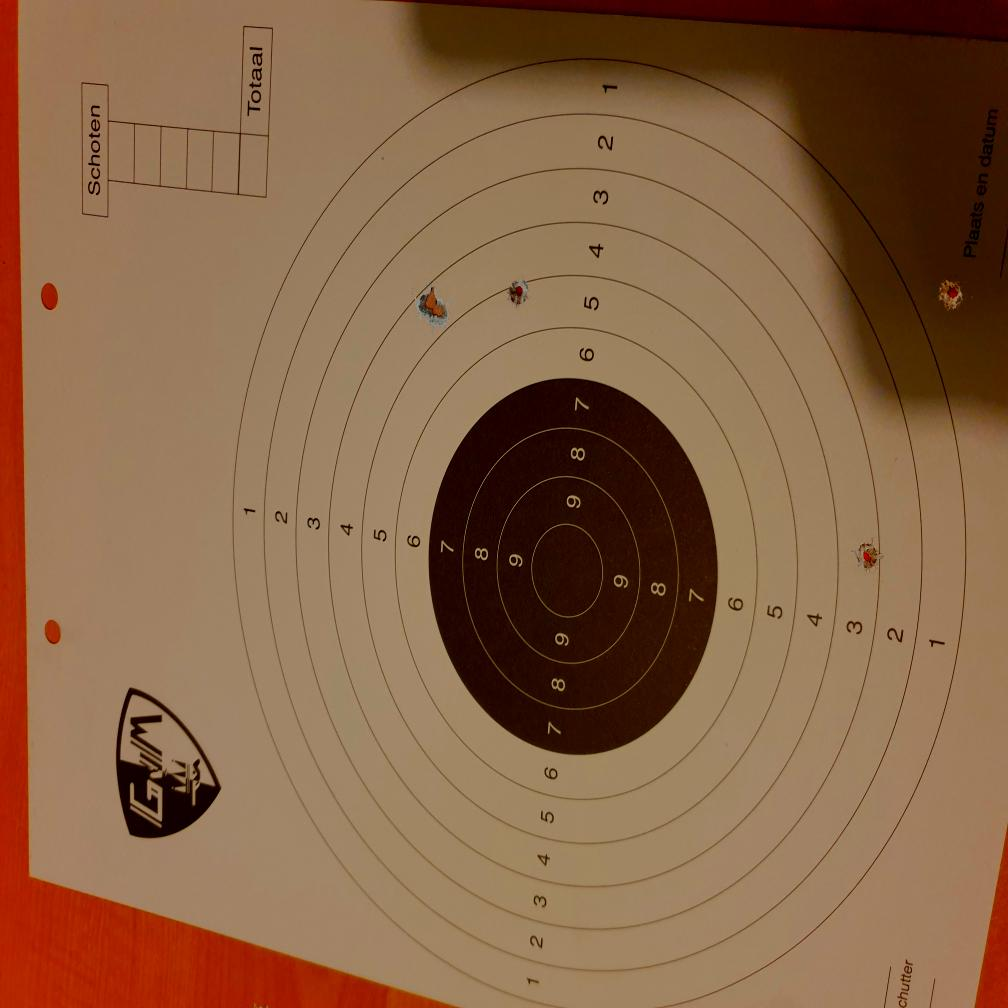0: (938, 278, 962, 310)
3: (856, 542, 878, 572)
4: (417, 285, 437, 314), (427, 301, 449, 327)
5: (506, 278, 529, 308)
Target: (234, 54, 966, 1004)
black_contour: (430, 377, 717, 755)
